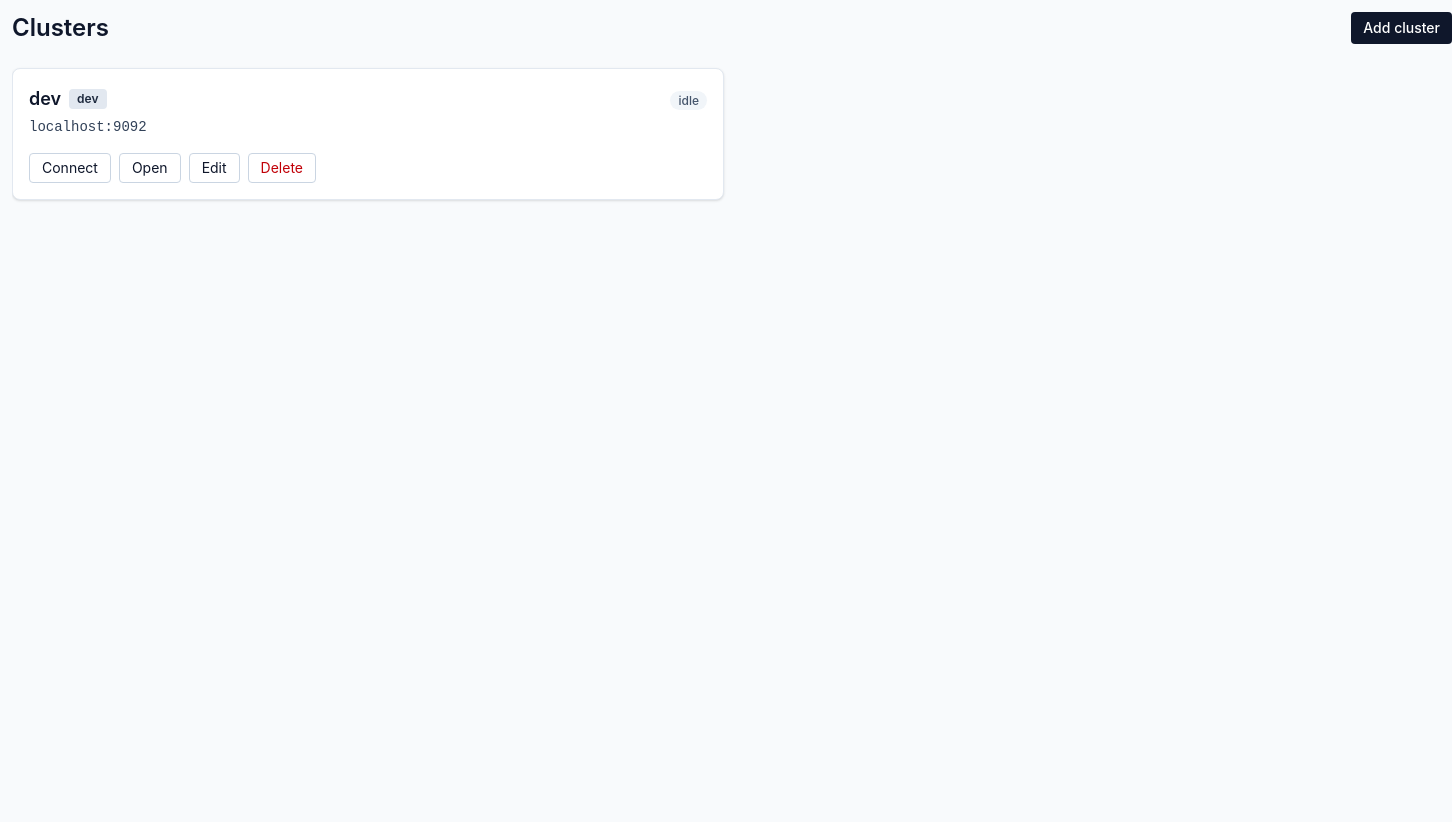
ClusterManager › toasts a failed connect
Expected: the element "dev" is shown, [12,68,724,200]
Click the button "Connect".
click(70, 168)  # box [29,153,111,183]
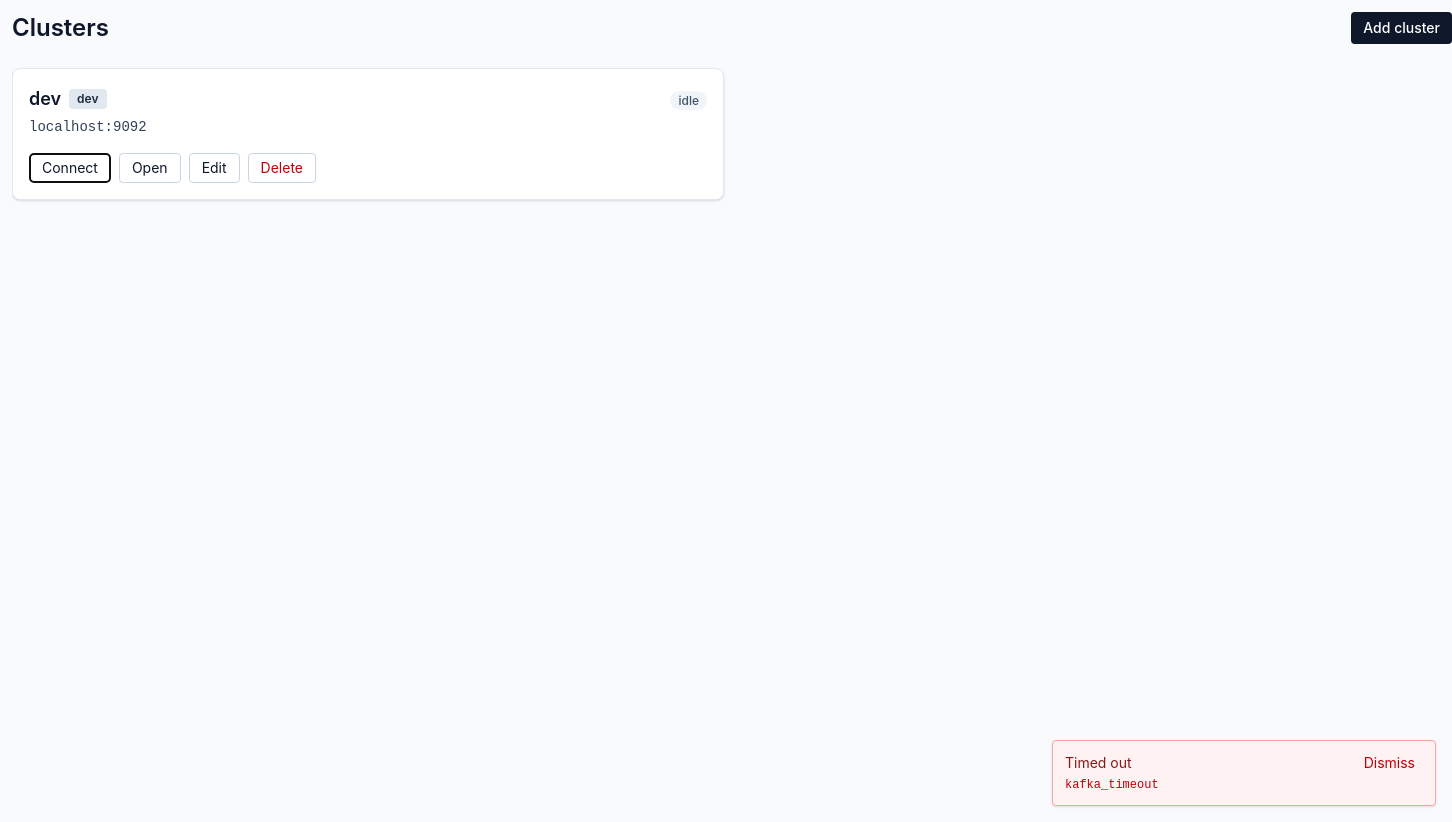
Now the message shows "Timed out", box [1065,754,1132,771]
